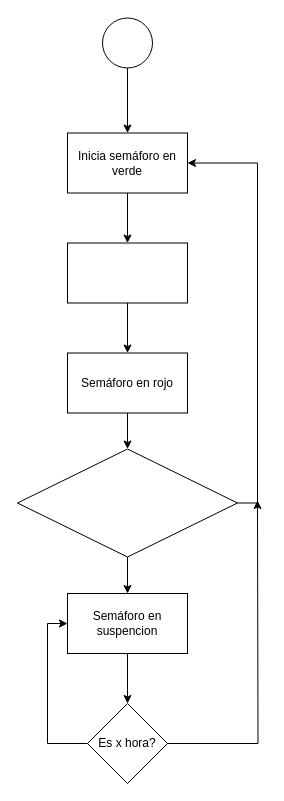
The diagram is 284 pixels wide and 801 high, and some of its shapes have lost their labels. Here are the shapes that lost their labels. From the top down, the centre of each, then its label:
[127,272]: Semáforo en amarillo
[127,502]: es semáforo se suspende? && suspensorio en x hora?
